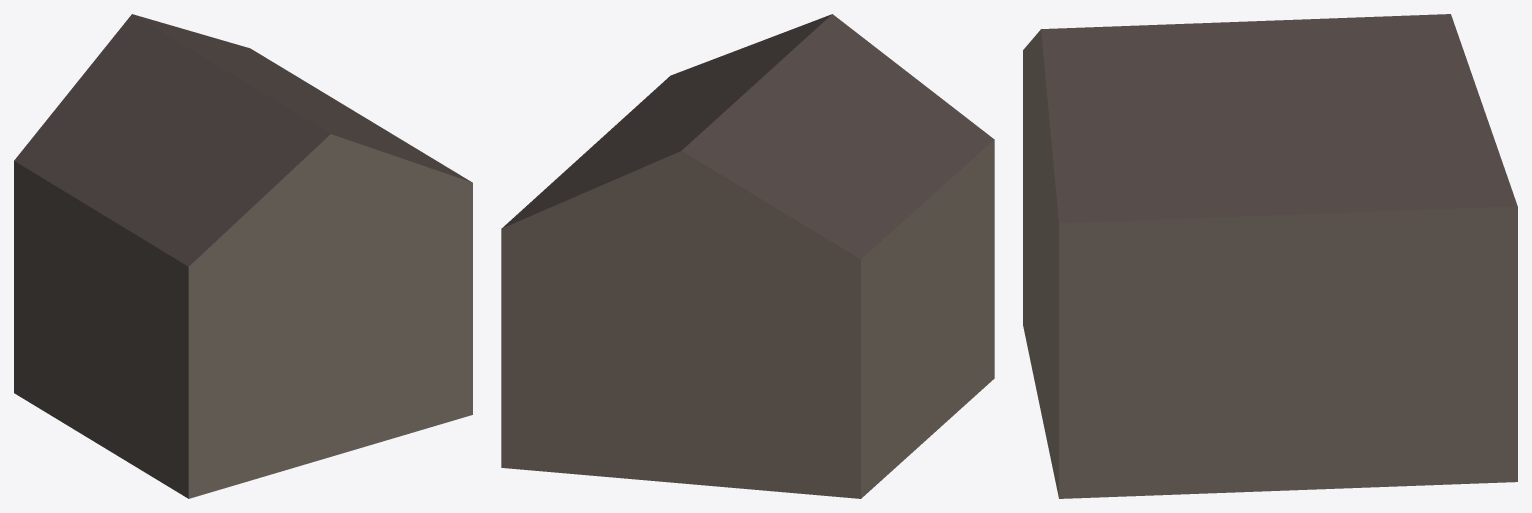
3 views of the same model, side by side, from view 1: azimuth 30°, elevation 25°; view 2: azimuth 150°, elevation 25°; view 3: azimuth 270°, elevation 25° (orthographic). The views are drawn at different scales.
Visible parts, largest first — view 1: HP-w859424248; view 2: HP-w859424248; view 3: HP-w859424248.
Part boxes in pixels (box(x1,y1,x2,y2)): HP-w859424248: box(14, 14, 472, 498); HP-w859424248: box(501, 14, 994, 498); HP-w859424248: box(1023, 14, 1517, 498).
Bounding box in the file's own units: 8.71 × 8.35 × 9.77.
